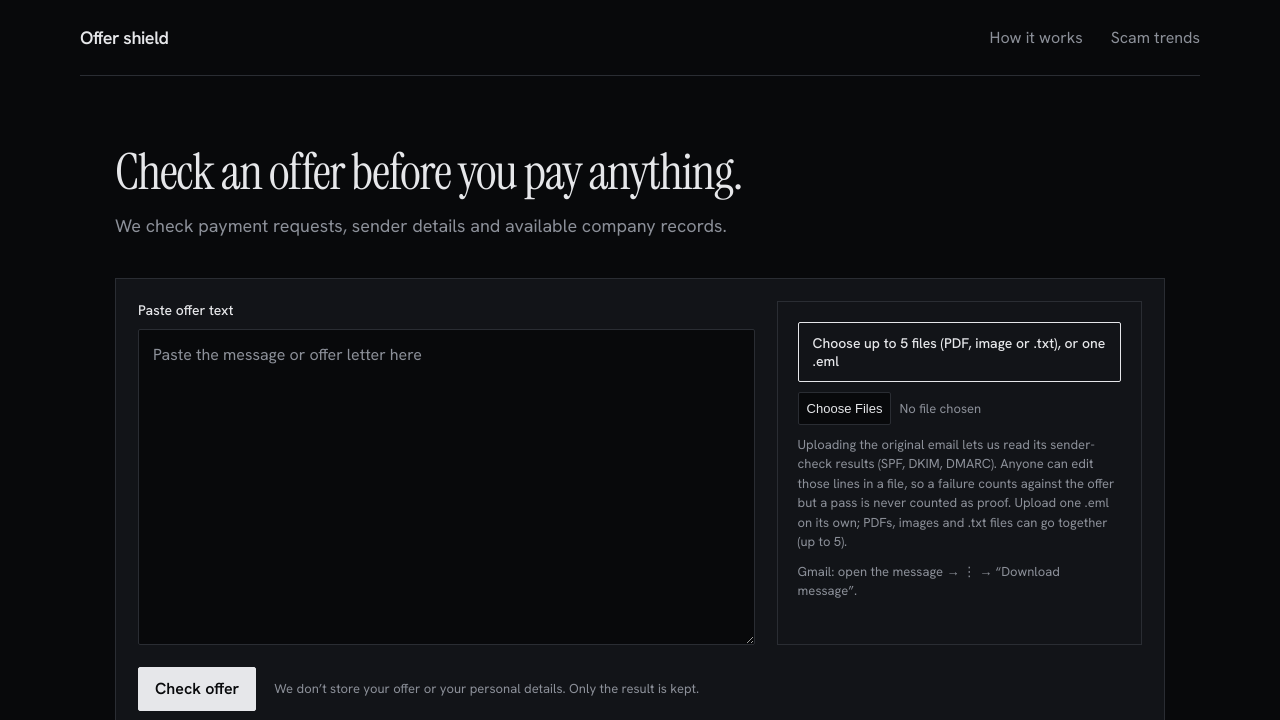
Test: interface errors › shows the mapped message for status 413
Type "Offer text" into the text box labelled "Paste offer text". click: (446, 487)
box: left=138, top=329, right=755, bottom=645
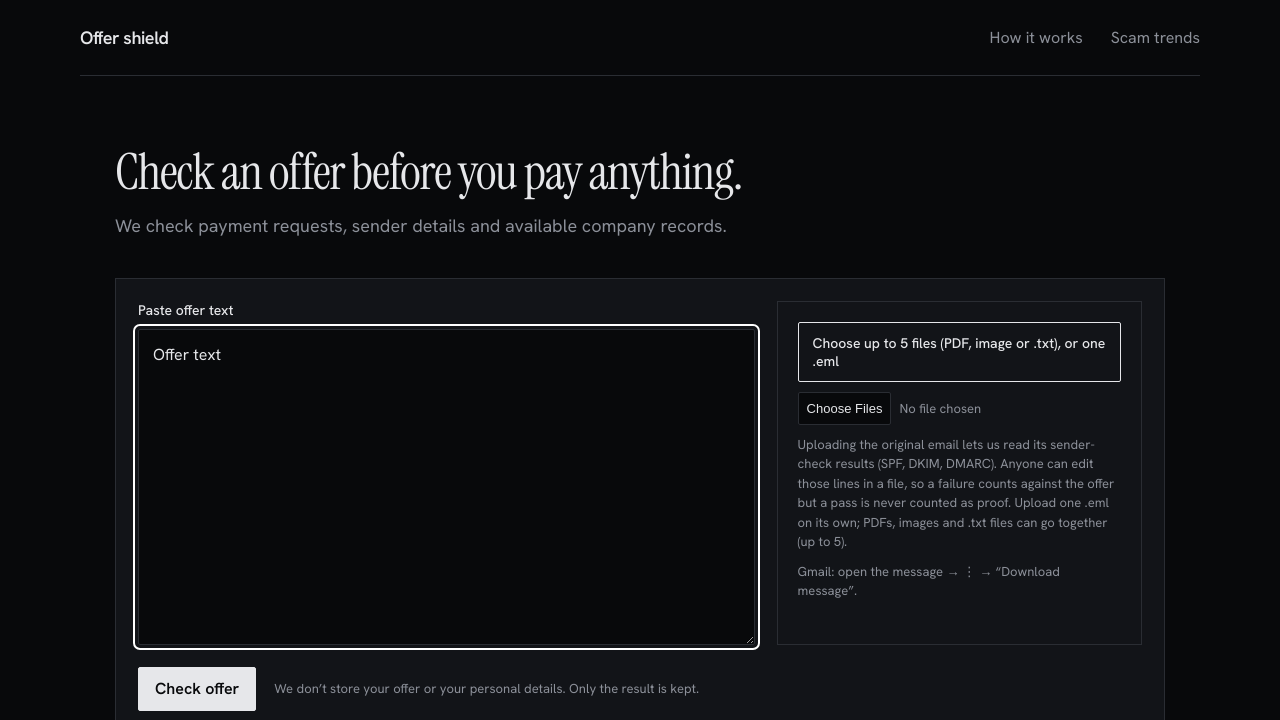
Click the button "Check offer". click: (197, 689)
box: left=138, top=667, right=256, bottom=711
(page scrolled)
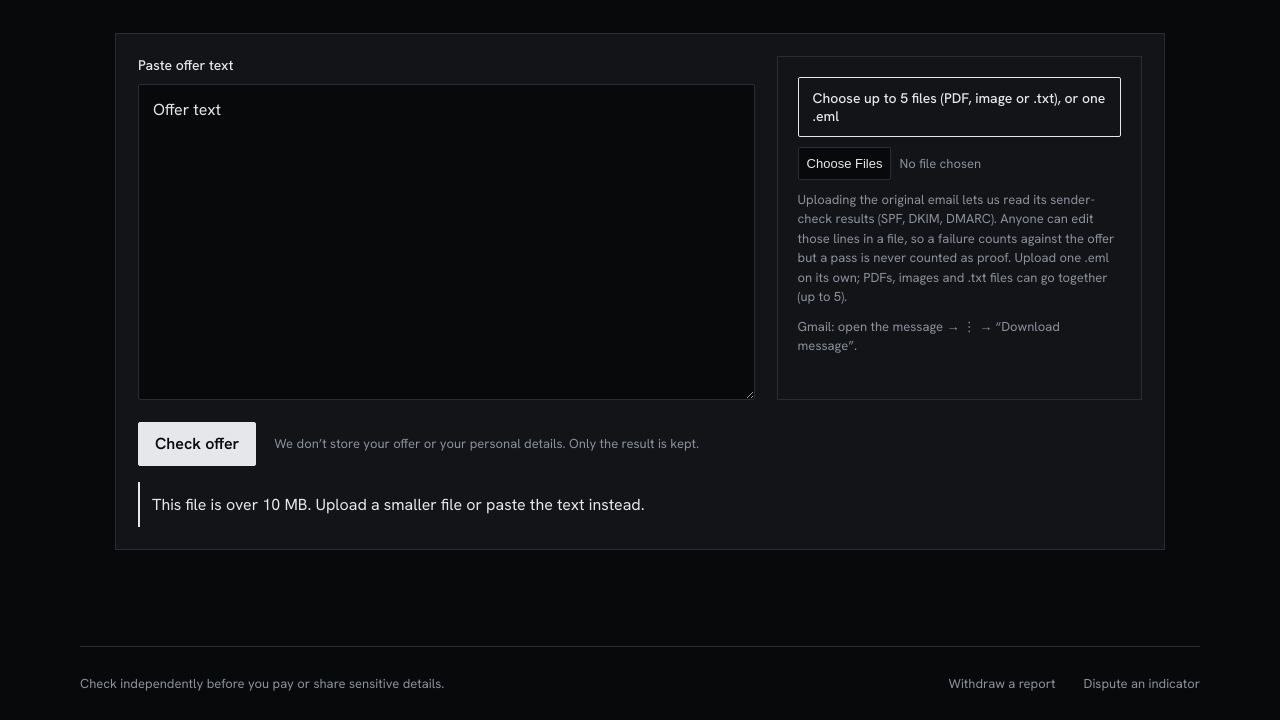
Check: the message reads "This file is over 10 MB. Upload a smaller file or paste the text instead.", box left=152, top=494, right=645, bottom=515
